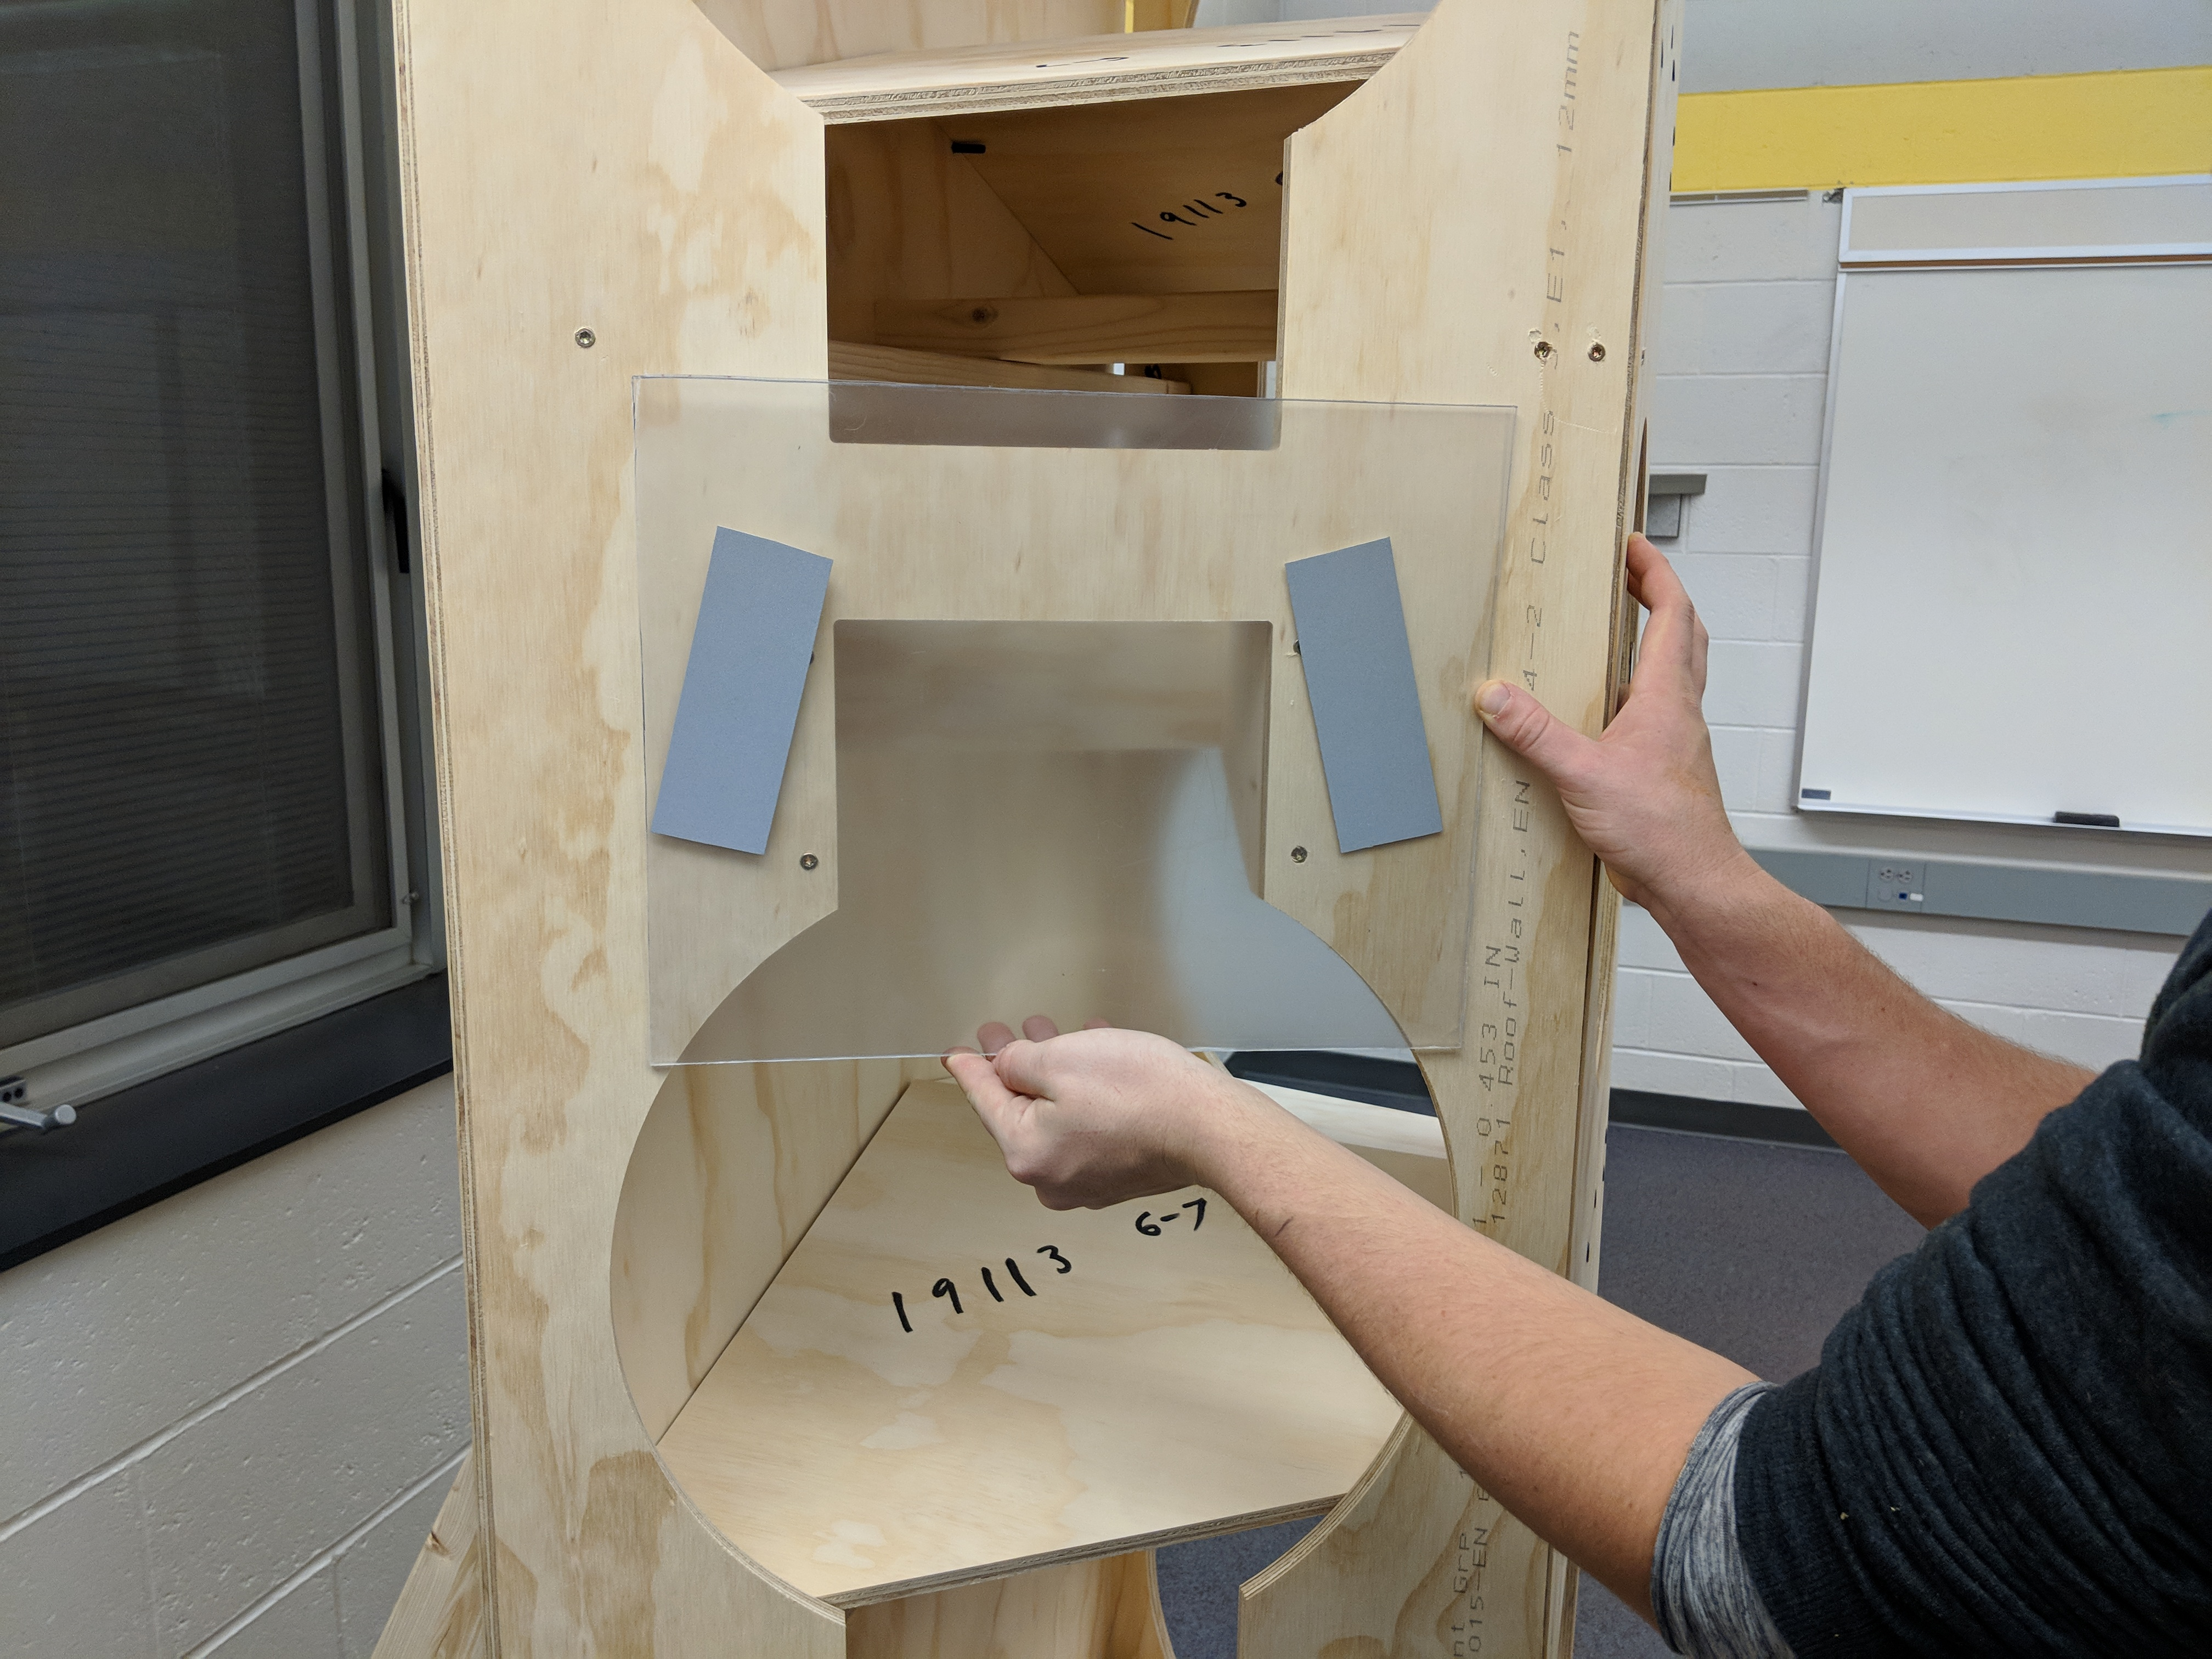vision_target: (639, 516, 1454, 868)
